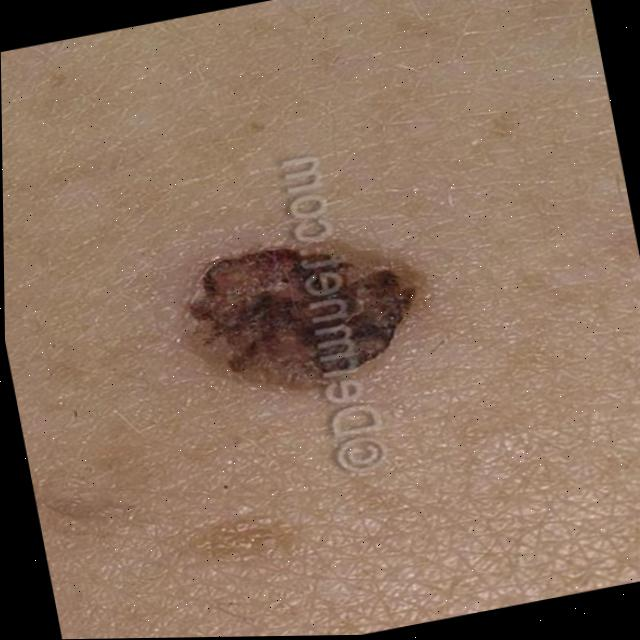Eczema: (156, 206, 444, 432)
